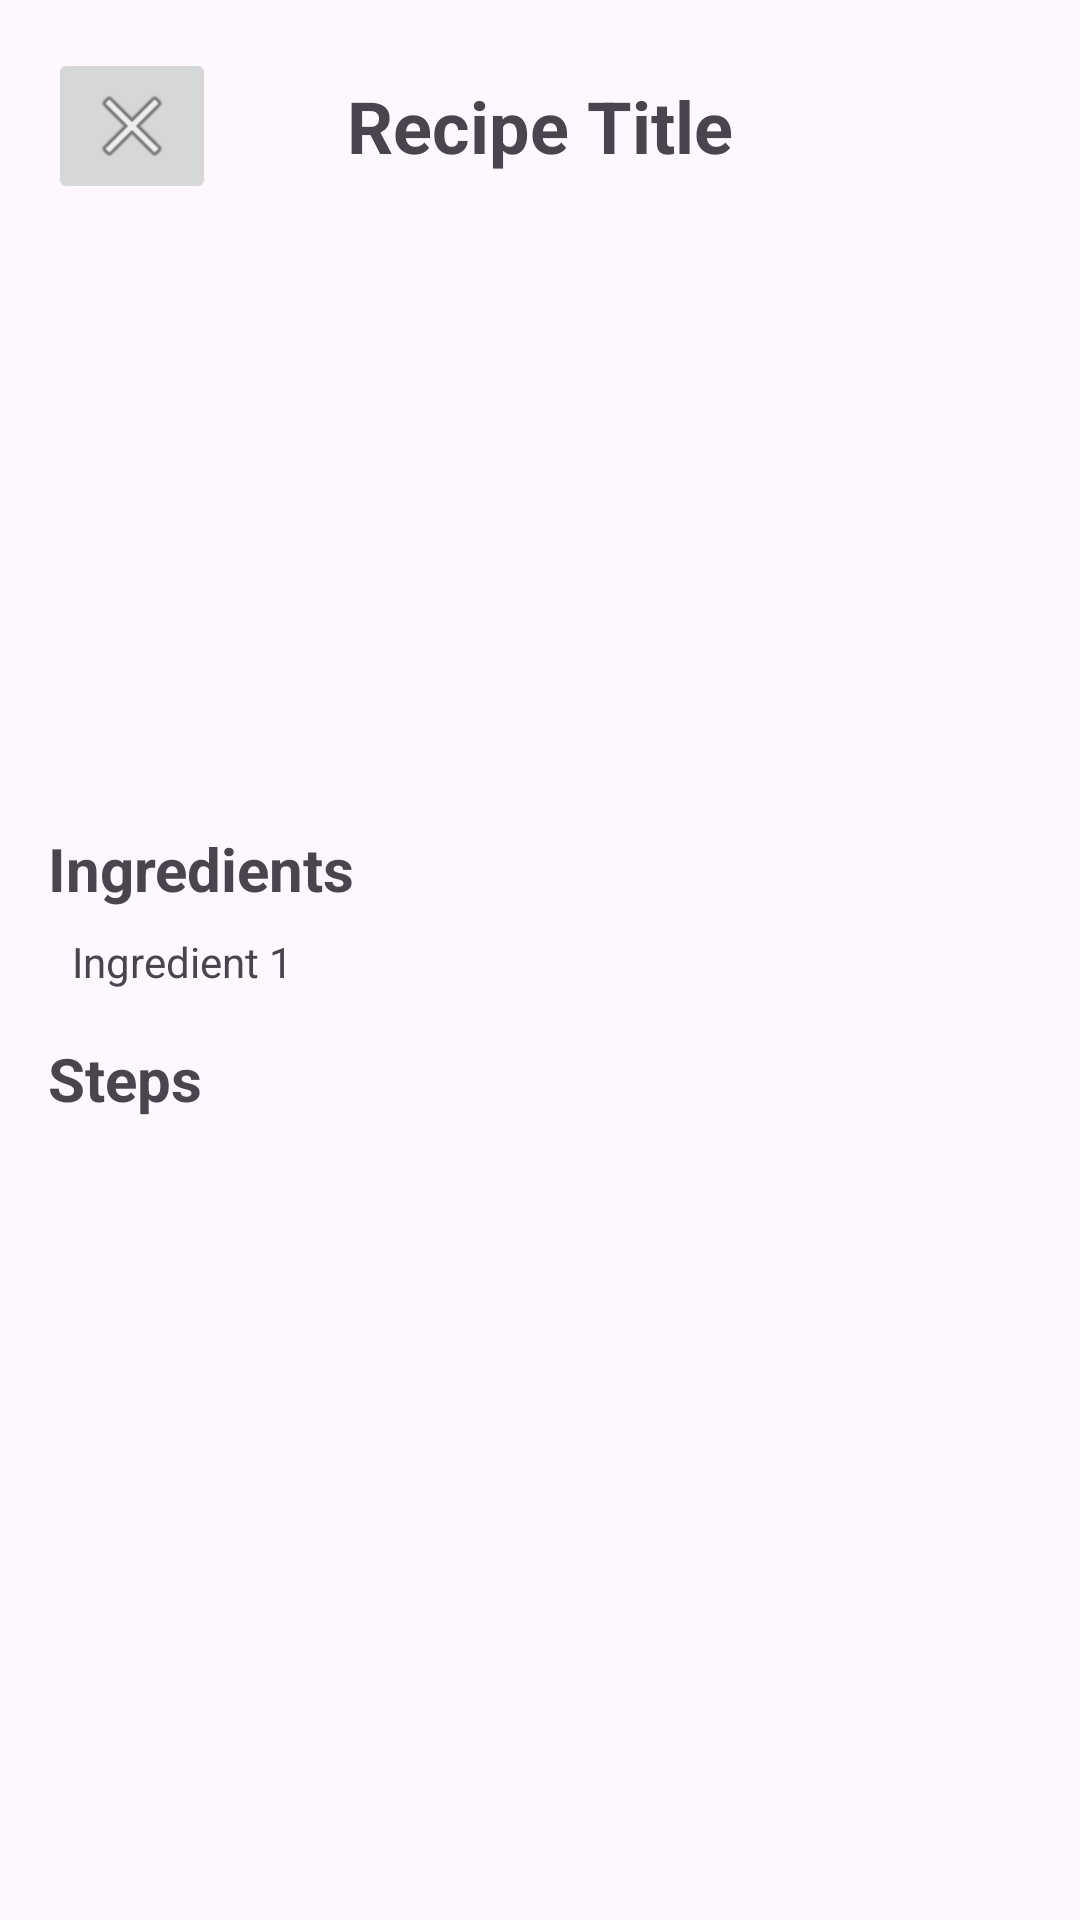

Screen size 1080×1920. Icon name, then its center in pixels as point (x, y):
Back Button: point (132, 126)
